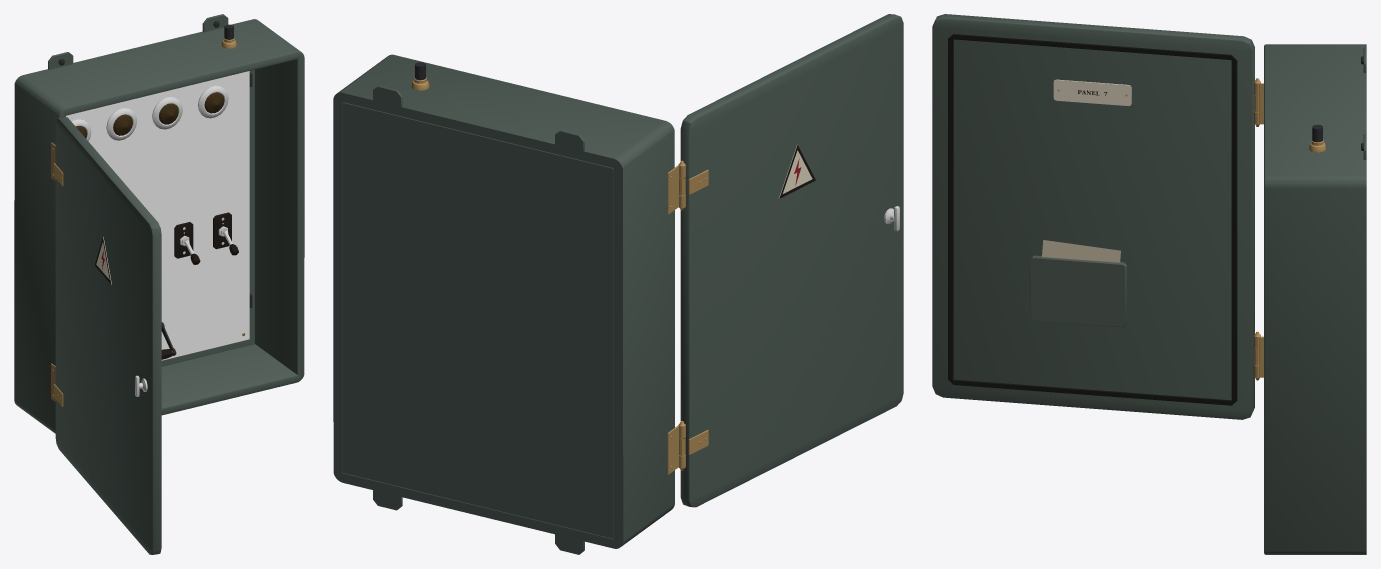
File: panel7.glb
The picture shows the model from 3 angles, left to right: view 1: azimuth 30°, elevation 25°; view 2: azimuth 150°, elevation 25°; view 3: azimuth 270°, elevation 25°; orthographic projection. The views are drawn at different scales.
Parts seen in each view (by area): view 1: panel_door, panel_plate, panel_case_r, panel_case_t, panel_case_l, panel_case_b, panel_case_back, panel_switch_bases; view 2: panel_case_back, panel_door, panel_case_l, panel_case_t, panel_case_r, panel_case_b; view 3: panel_door, panel_case_r, panel_case_t, panel_case_l.
Boxes of the visible parts, x1=… form: panel_door: x1=53, y1=117, x2=161, y2=554; panel_plate: x1=66, y1=71, x2=249, y2=360; panel_case_r: x1=255, y1=53, x2=304, y2=378; panel_case_t: x1=17, y1=14, x2=302, y2=141; panel_case_l: x1=14, y1=79, x2=65, y2=433; panel_case_b: x1=161, y1=333, x2=301, y2=415; panel_case_back: x1=161, y1=69, x2=254, y2=366; panel_switch_bases: x1=174, y1=212, x2=231, y2=258; panel_case_back: x1=342, y1=102, x2=613, y2=538; panel_door: x1=679, y1=14, x2=903, y2=507; panel_case_l: x1=614, y1=125, x2=685, y2=547; panel_case_t: x1=336, y1=54, x2=671, y2=168; panel_case_r: x1=333, y1=94, x2=342, y2=477; panel_case_b: x1=336, y1=473, x2=619, y2=554; panel_door: x1=932, y1=14, x2=1259, y2=419; panel_case_r: x1=1264, y1=180, x2=1366, y2=554; panel_case_t: x1=1264, y1=44, x2=1366, y2=180; panel_case_l: x1=1254, y1=78, x2=1263, y2=380.
Bounding box in the file's own units: 0.8608 × 0.986 × 0.9316.
